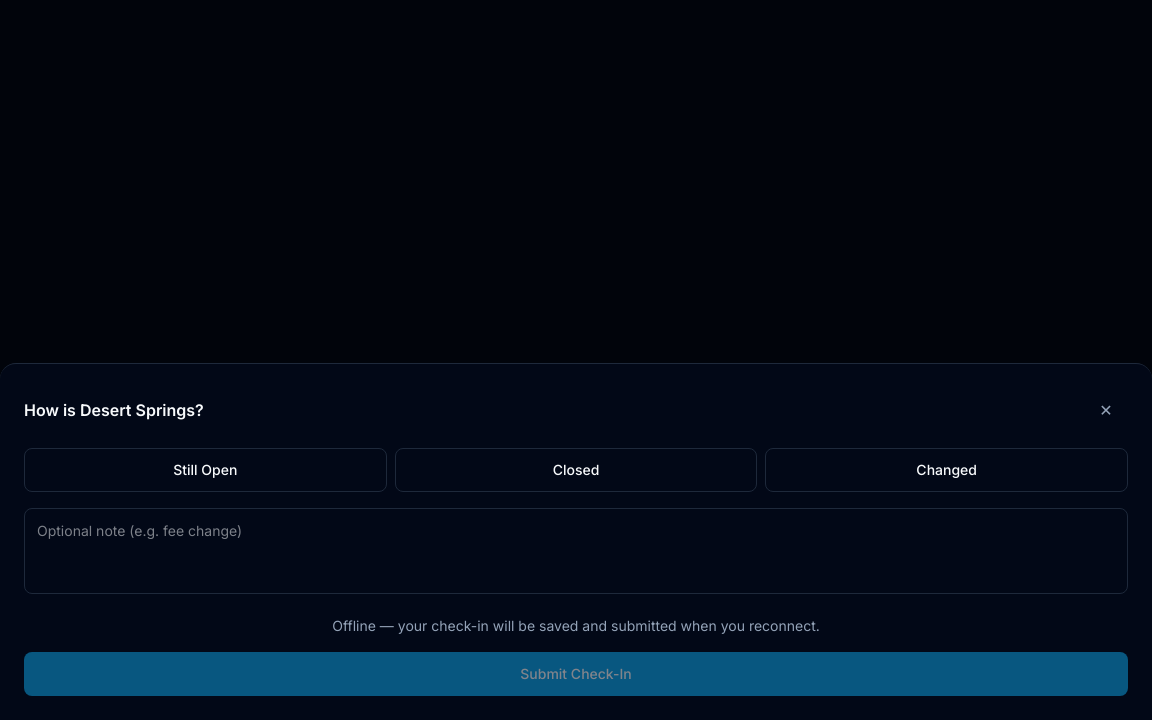
Scenario: CheckInForm › queues check-in when offline and shows guidance message
Click the button "Still Open" at (205, 470), box x1=24 y1=448 x2=387 y2=492
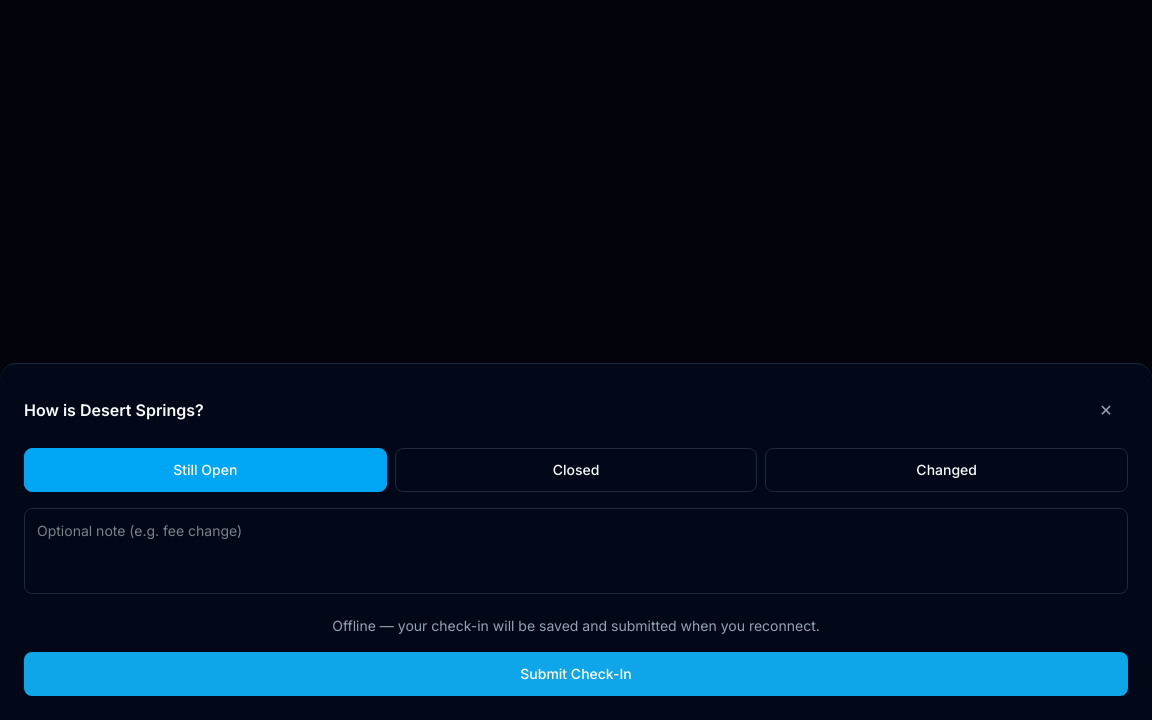
Expected: the message shows "your check-in will be saved and submitted when you reconnect", x1=332 y1=617 x2=820 y2=634
Now the button "Submit Check-In" is enabled, box x1=24 y1=652 x2=1128 y2=696
